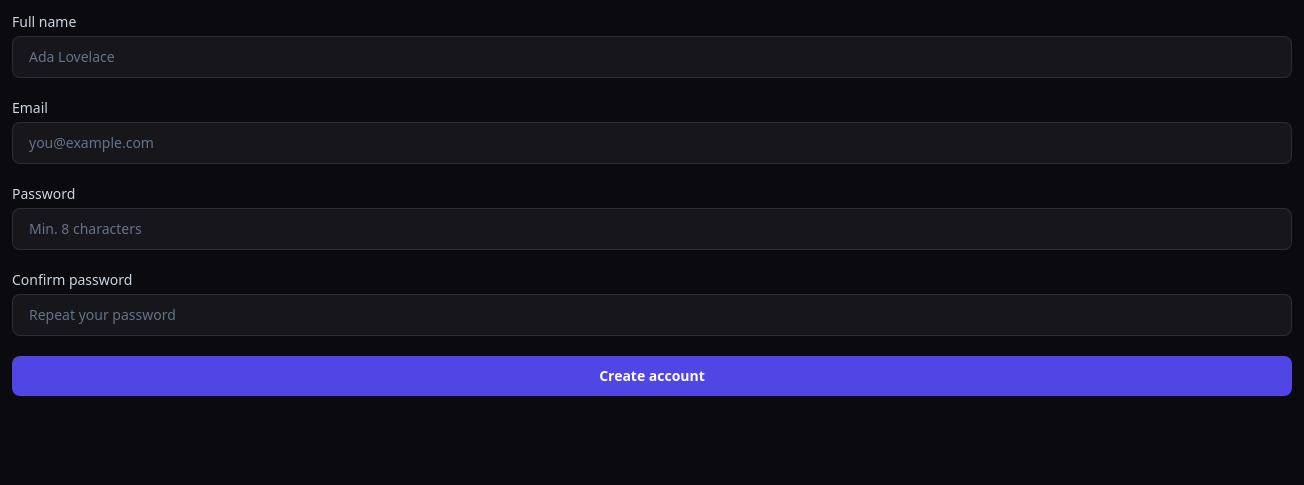
Scenario: RegisterForm › shows inline errors when submitted empty
The image size is (1304, 485).
Click the button "Create account": (652, 376) top-left (12, 356), bottom-right (1292, 396)
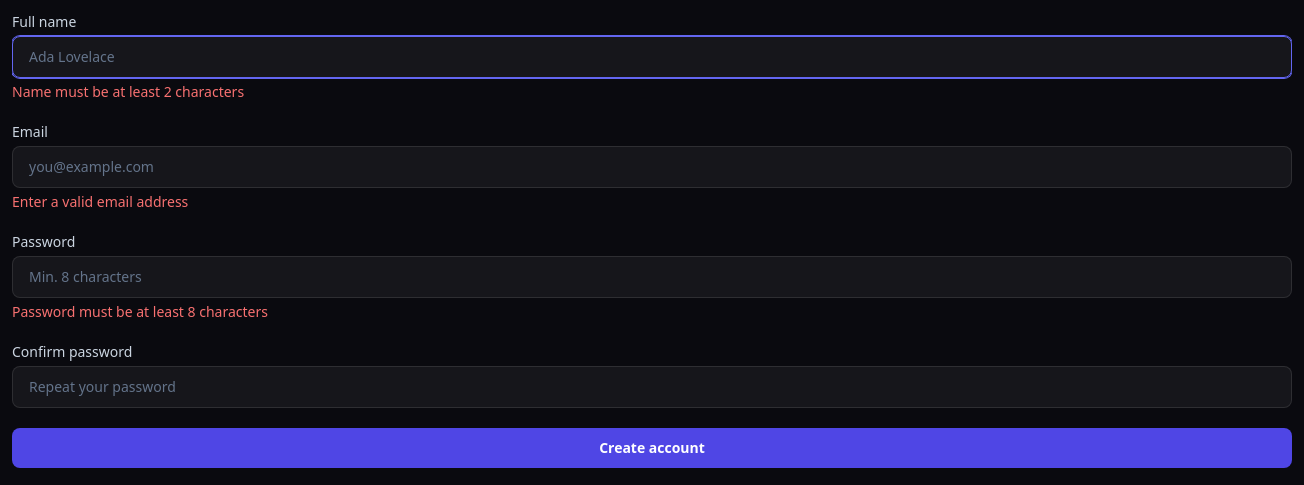
expect the text "Name must be at least 2 characters" is shown: met, box top-left (12, 82), bottom-right (244, 101)
